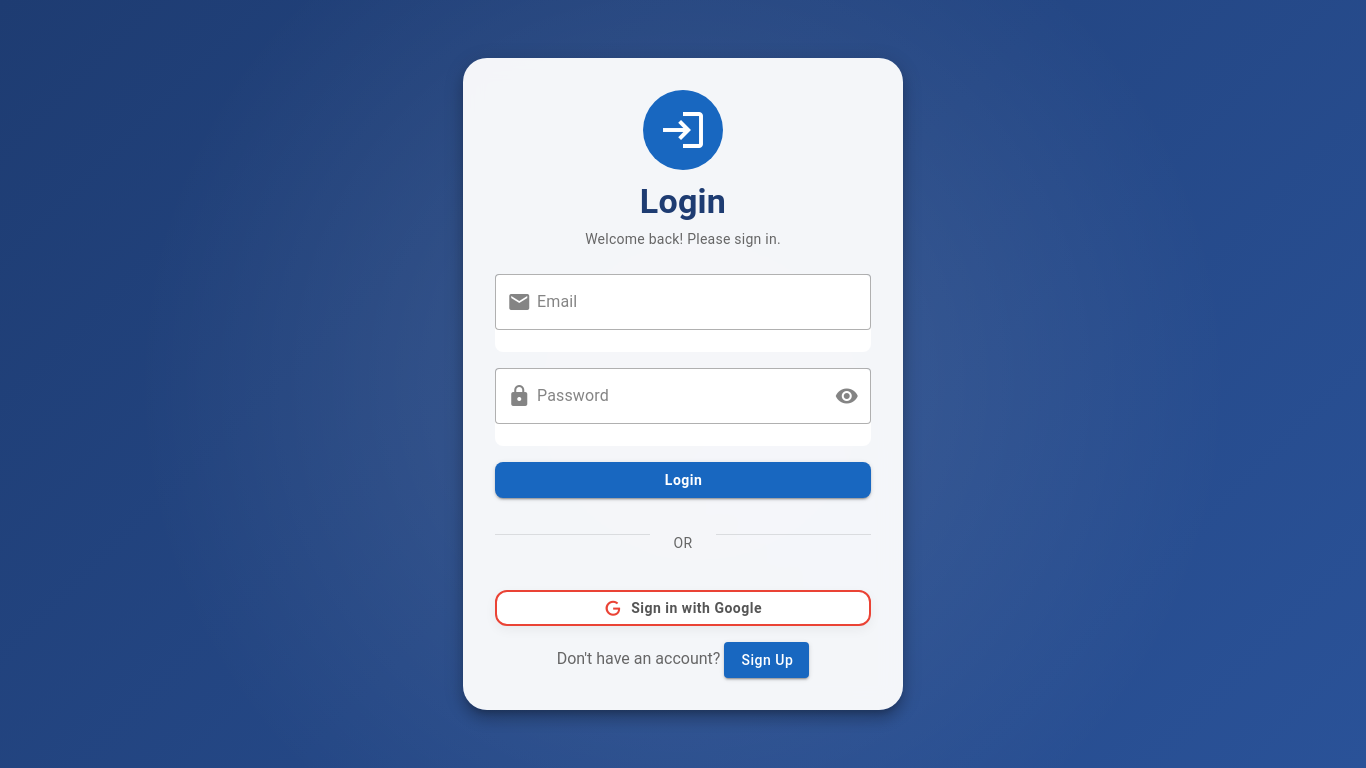
Test: Login.vue › displays error message on Google Sign-In failure
Click the button with class "google-btn".
click(683, 608)  # box [495,590,871,626]
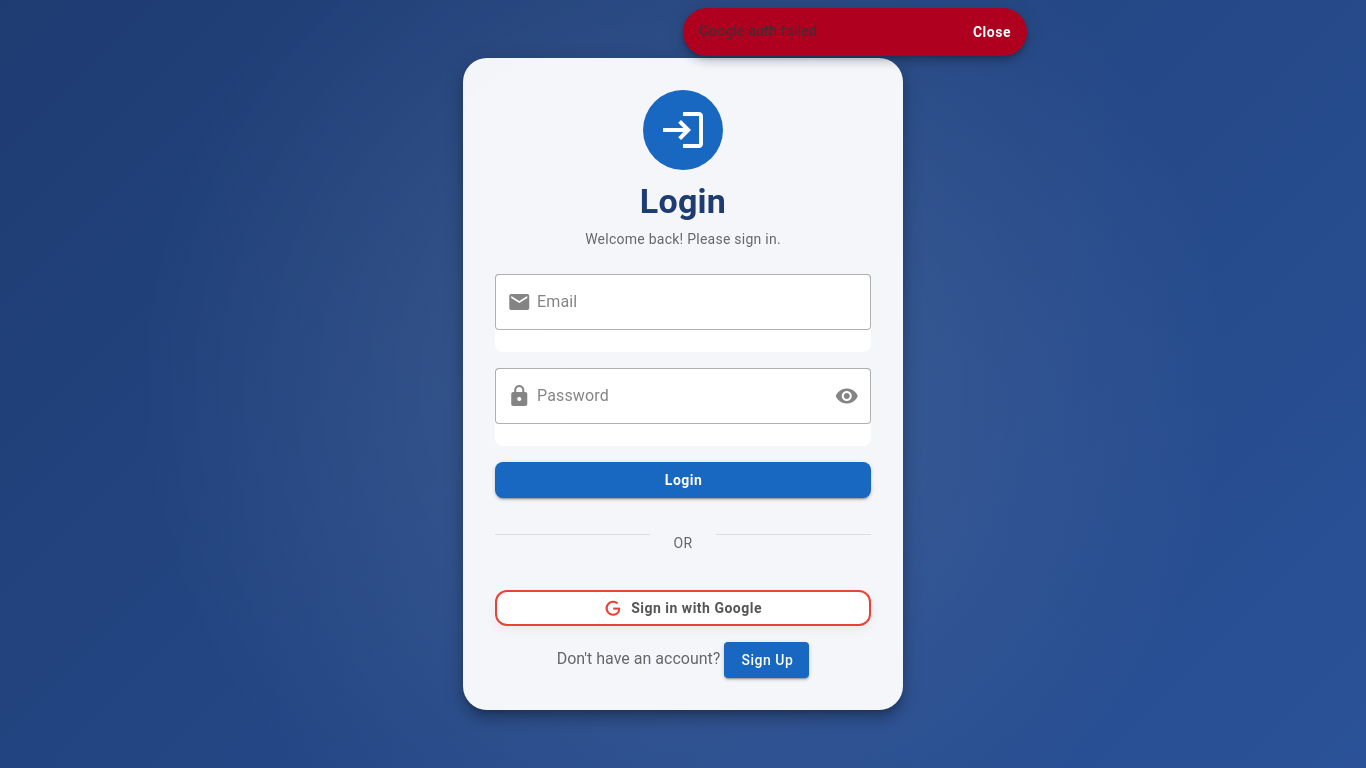
Expected: the message "Google auth failed" is shown, [699,23,817,39]
